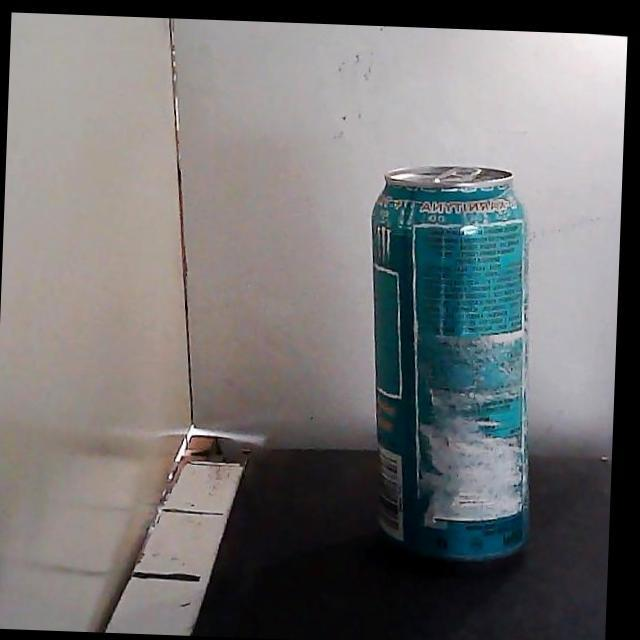metal: (372, 165, 528, 560)
